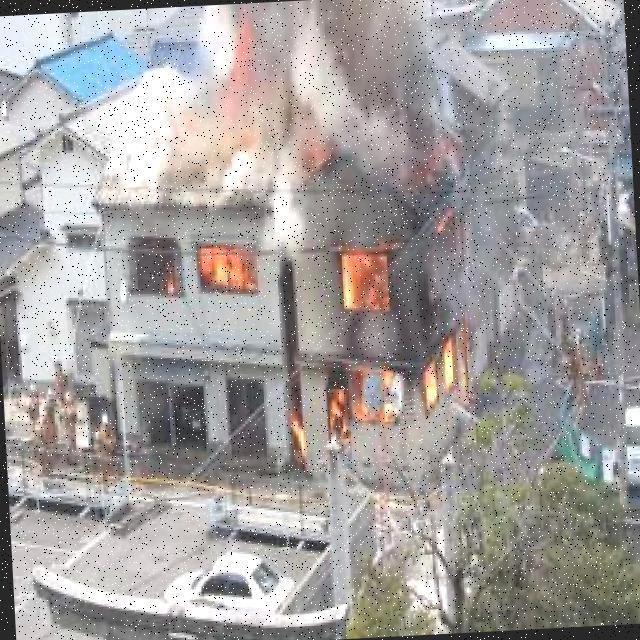Fire: (301, 227, 482, 475), (180, 67, 270, 165), (173, 234, 254, 303)
